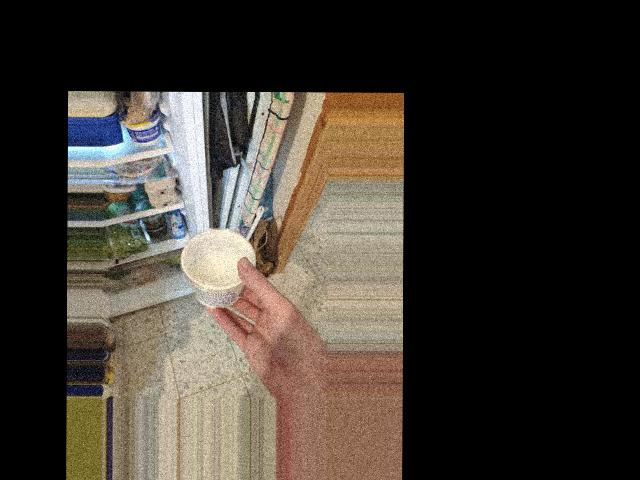cotage: (191, 219, 244, 312)
